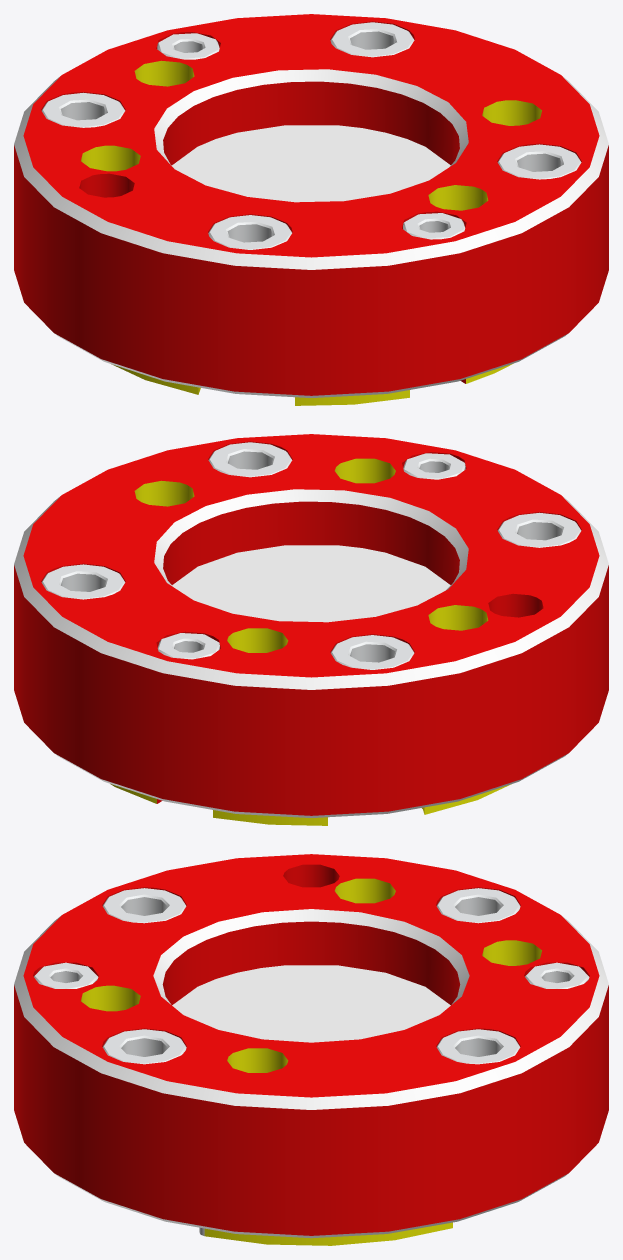
File: flange.dae
3 renders of one model, top to bottom at view 1: azimuth 30°, elevation 25°; view 2: azimuth 150°, elevation 25°; view 3: azimuth 270°, elevation 25°, orthographic.
Parts seen in each view (by area): view 1: a3c_efio_iso_flange_assy_asm; view 2: a3c_efio_iso_flange_assy_asm; view 3: a3c_efio_iso_flange_assy_asm.
Boxes of the visible parts, x1,y1,x2,y2 form: a3c_efio_iso_flange_assy_asm: (14, 14, 608, 405); a3c_efio_iso_flange_assy_asm: (14, 434, 608, 825); a3c_efio_iso_flange_assy_asm: (14, 854, 608, 1245).
Size of the model in its own units: 63 by 63 by 19.
